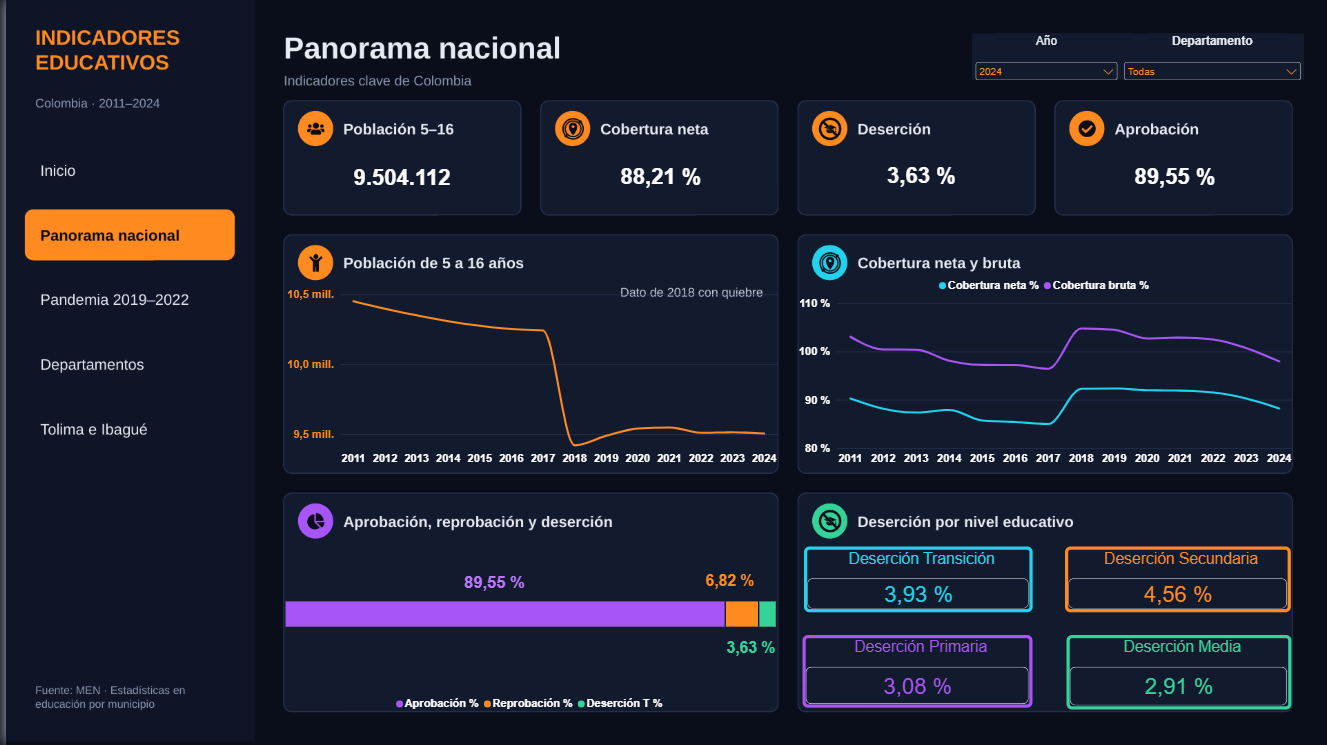

The dashboard page shown, as its layout file describes it:
{"tool":"powerbi","page":{"name":"Panorama nacional ","canvas":[1920,1080],"ordinal":1},"visuals":[{"type":"slicer","title":"Año","fields":{"Values":["Datos.AÑO"]},"box":[1399.6,50.3,215.7,67.1],"z":0},{"type":"slicer","title":"Departamento","fields":{"Values":["Datos.DEPARTAMENTO"]},"box":[1615.2,50.3,266,67.1],"z":1000},{"type":"actionButton","box":[32.5,195,307.5,90],"z":2000},{"type":"actionButton","box":[26.1,387,306.5,93.5],"z":3000},{"type":"actionButton","box":[26.1,480.4,306.5,82.6],"z":4000},{"type":"actionButton","box":[26.1,578.3,306.5,97.8],"z":5000},{"type":"cardVisual","fields":{"Data":["Datos.Población texto"]},"box":[419.4,213.3,309.1,91.1],"z":6000},{"type":"cardVisual","fields":{"Data":["Datos.Cobertura neta %"]},"box":[872.3,198.9,155.8,119.8],"z":7000},{"type":"cardVisual","fields":{"Data":["Datos.Deserción T %"]},"box":[1260.6,191.7,158.2,127],"z":8000},{"type":"cardVisual","fields":{"Data":["Datos.Aprobación %"]},"box":[1620,198.9,172.5,119.8],"z":9000},{"type":"lineChart","fields":{"Category":["Datos.AÑO"],"Y":["Datos.Población 5-16"]},"box":[390.6,385.8,742.9,309.1],"z":10000},{"type":"lineChart","fields":{"Category":["Datos.AÑO"],"Y":["Datos.Cobertura neta %","Datos.Cobertura bruta %"]},"box":[1133.5,385.8,747.7,309.1],"z":11000},{"type":"hundredPercentStackedBarChart","fields":{"Y":["Datos.Aprobación %","Datos.Reprobación %","Datos.Deserción T %"]},"box":[390,762.5,742.5,290],"z":12000},{"type":"cardVisual","fields":{"Data":["Datos.Aprobación %"]},"box":[647.3,804,232.5,83.9],"z":13000},{"type":"cardVisual","fields":{"Data":["Datos.Deserción T %"]},"box":[1028.9,906.3,127.2,68.1],"z":14000},{"type":"cardVisual","fields":{"Data":["Datos.Reprobación %"]},"box":[997.1,824.5,136.6,38.3],"z":15000},{"type":"cardVisual","title":"Deserción Primaria","fields":{"Data":["Datos.Deserción Primaria %"]},"box":[1155.1,922.7,333.1,105.4],"z":16000},{"type":"cardVisual","title":"Deserción Media","fields":{"Data":["Datos.Deserción Media %"]},"box":[1536.2,922.7,325.9,107.8],"z":17000},{"type":"cardVisual","title":"Deserción Transición","fields":{"Data":["Datos.Deserción Transición %"]},"box":[1156.1,792.7,331.6,95.4],"z":18000},{"type":"cardVisual","title":"Deserción Secundaria","fields":{"Data":["Datos.Deserción Secundaria %"]},"box":[1535.4,792.7,327.1,95.4],"z":19000}]}

Visuals, with their boxes in screenshot pixels (x1, y1, x2, y2), scaled from the page's 1920x1080 canvas onto the 1327x745 screenshot:
"Año" slicer: (967,35,1116,81)
"Departamento" slicer: (1116,35,1300,81)
actionButton: (22,135,235,197)
actionButton: (18,267,230,331)
actionButton: (18,331,230,388)
actionButton: (18,399,230,466)
cardVisual - Datos.Población texto: (290,147,503,210)
cardVisual - Datos.Cobertura neta %: (603,137,711,220)
cardVisual - Datos.Deserción T %: (871,132,981,220)
cardVisual - Datos.Aprobación %: (1120,137,1239,220)
lineChart - Datos.AÑO x Datos.Población 5-16: (270,266,783,479)
lineChart - Datos.AÑO x Datos.Cobertura neta %: (783,266,1300,479)
hundredPercentStackedBarChart - Datos.Aprobación % x Datos.Reprobación %: (270,526,783,726)
cardVisual - Datos.Aprobación %: (447,555,608,612)
cardVisual - Datos.Deserción T %: (711,625,799,672)
cardVisual - Datos.Reprobación %: (689,569,784,595)
"Deserción Primaria" cardVisual: (798,636,1029,709)
"Deserción Media" cardVisual: (1062,636,1287,711)
"Deserción Transición" cardVisual: (799,547,1028,613)
"Deserción Secundaria" cardVisual: (1061,547,1287,613)
